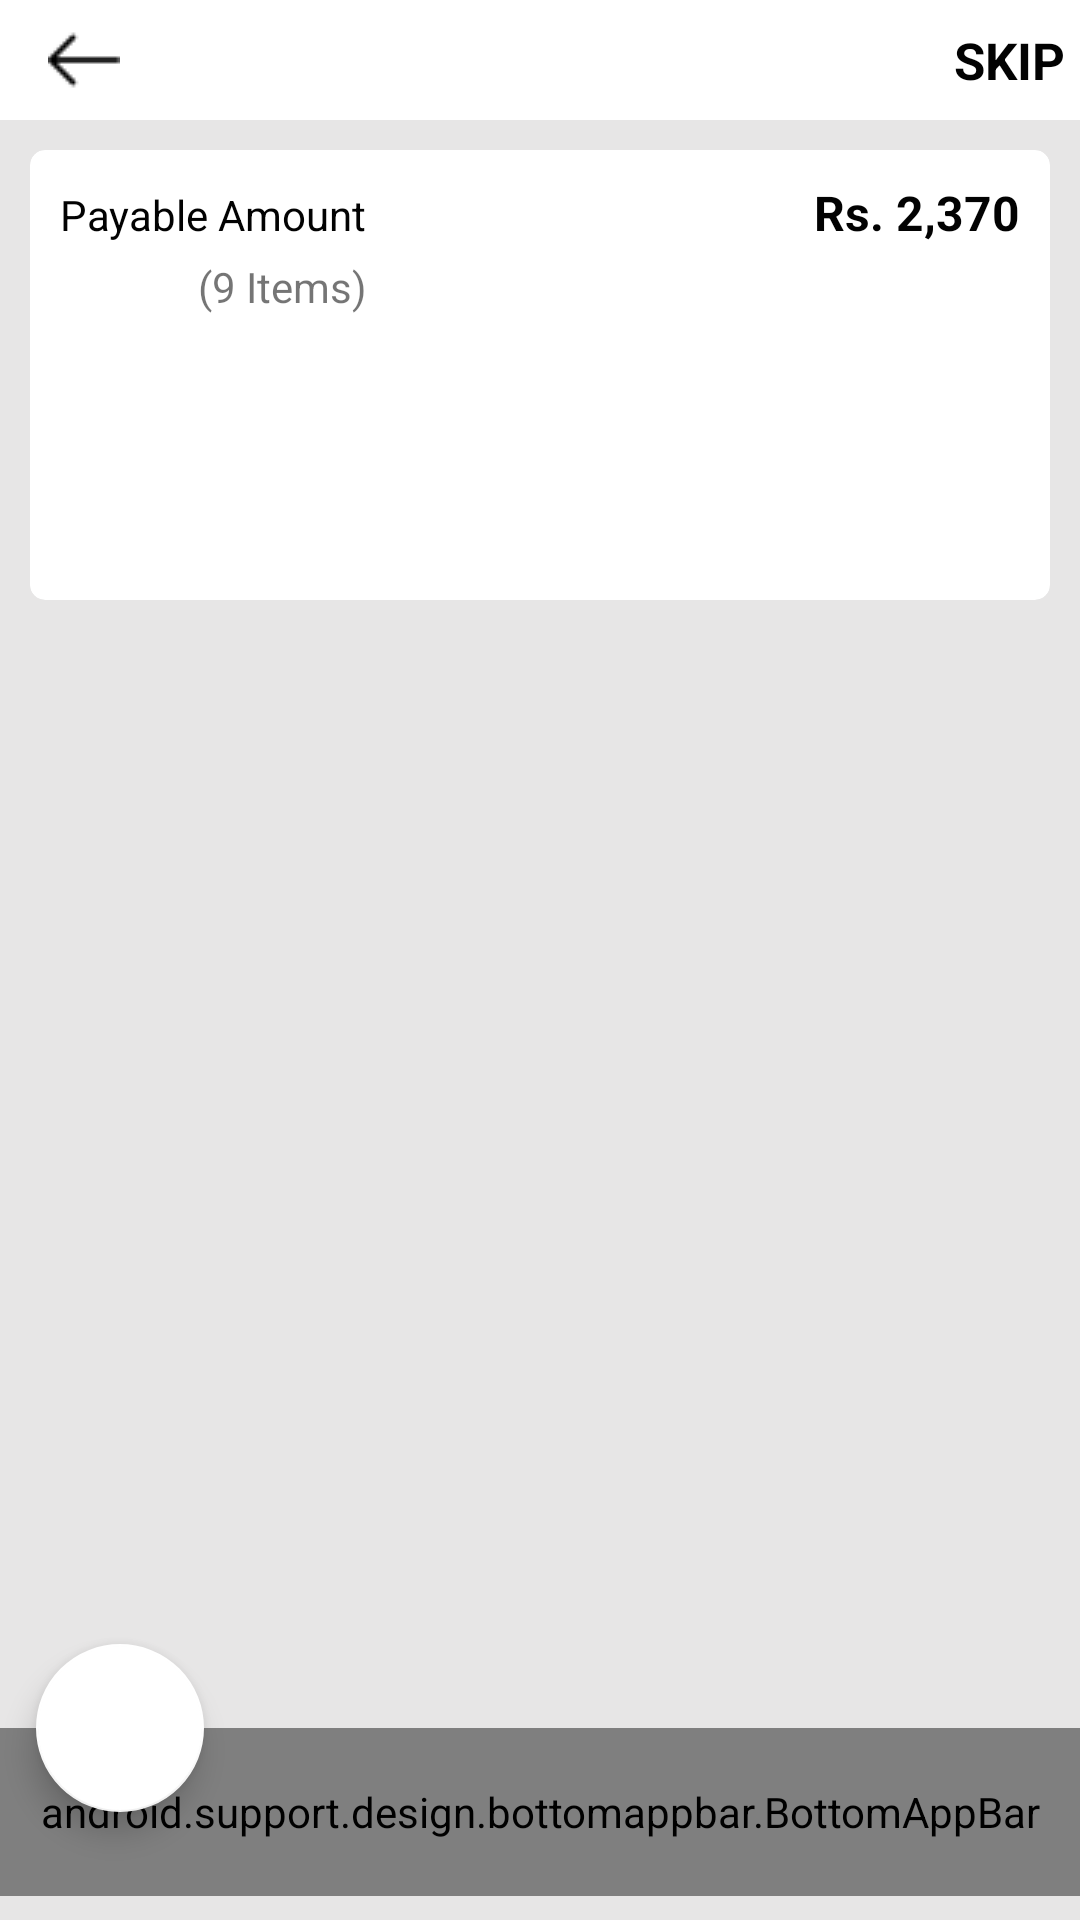

Screen size 1080x1920. Icon name, then its center in pixels as point (x, y):
back: point (84, 60)
